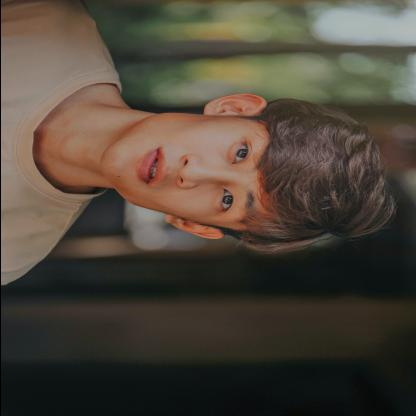Eye: (225, 138, 251, 166), (213, 188, 234, 214)
Mouth: (137, 147, 167, 188)
Nose: (174, 155, 226, 188)
